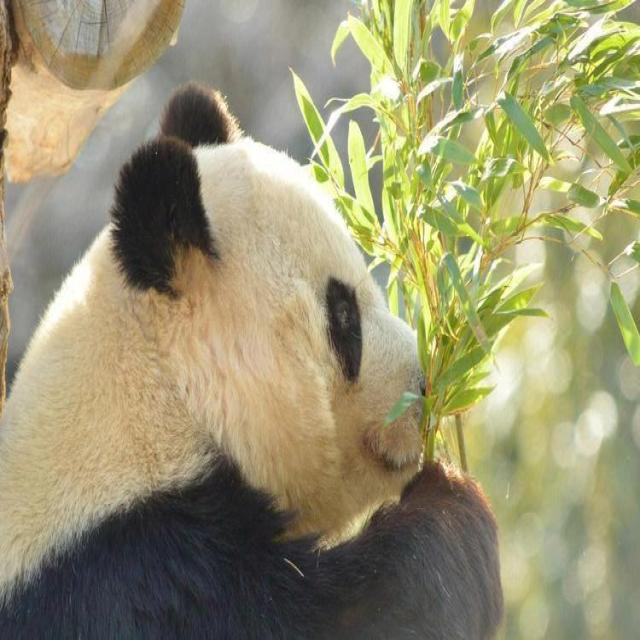panda: (0, 81, 509, 640)
